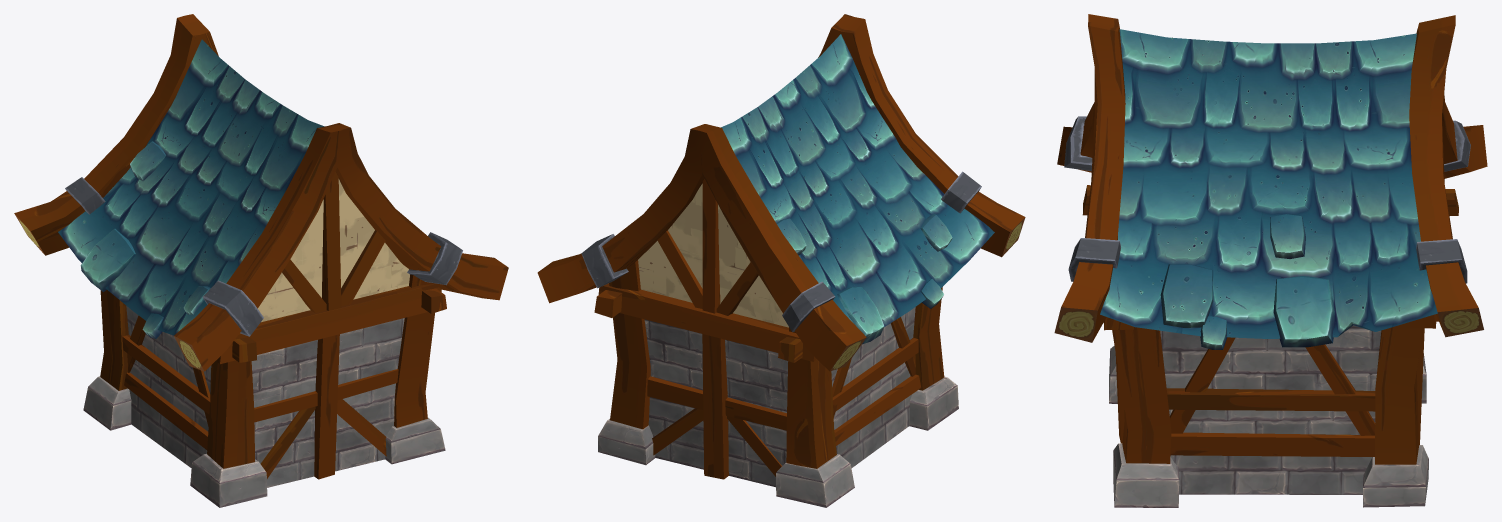
File: SM_BLD_body_v02_01.glb
The picture shows the model from 3 angles, left to right: view 1: azimuth 30°, elevation 25°; view 2: azimuth 150°, elevation 25°; view 3: azimuth 270°, elevation 25°; orthographic projection. The views are drawn at different scales.
Visible parts, largest first — view 1: SM_BLD_body_v02_01_EXPORT; view 2: SM_BLD_body_v02_01_EXPORT; view 3: SM_BLD_body_v02_01_EXPORT.
Boxes of the visible parts, x1,y1,x2,y2 form: SM_BLD_body_v02_01_EXPORT: (14,14,508,507); SM_BLD_body_v02_01_EXPORT: (537,14,1025,507); SM_BLD_body_v02_01_EXPORT: (1054,14,1487,507).
Size of the model in its own units: 7.91 by 8.47 by 7.88.
6 materials, 6 textured.
